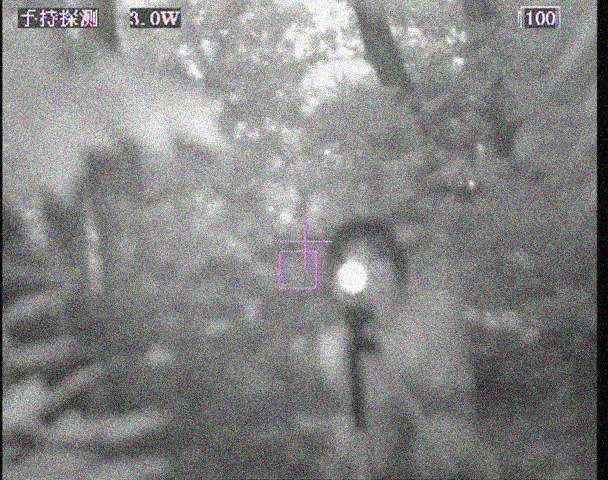my: (338, 260, 369, 291)
